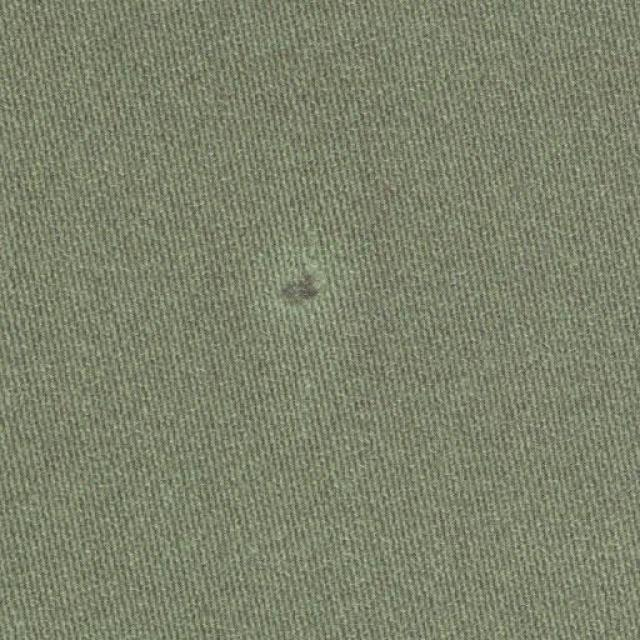Hole: (278, 265, 326, 306)
